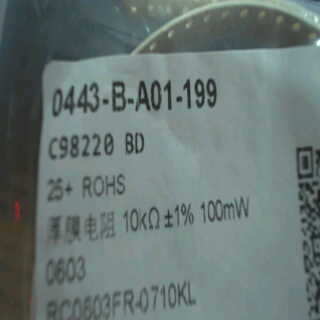10kR: (124, 201, 164, 232)
